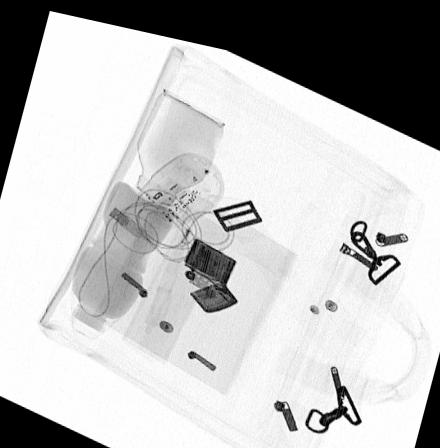Lighter: (182, 228, 238, 302)
